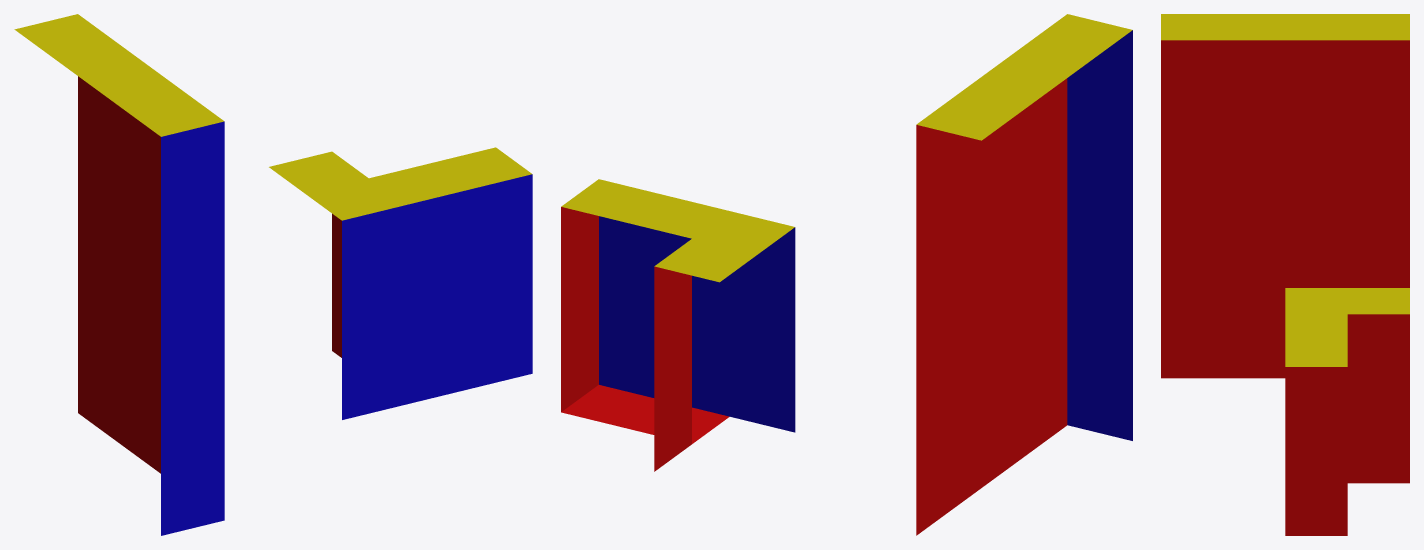
Rendered from Level (2).fbx.
The picture shows the model from 3 angles, left to right: view 1: azimuth 30°, elevation 25°; view 2: azimuth 150°, elevation 25°; view 3: azimuth 270°, elevation 25°; orthographic projection. The views are drawn at different scales.
Parts seen in each view (by area): view 1: Level; view 2: Level; view 3: Level.
Part boxes in pixels (x1,y1,x2,y2): Level: [14, 14, 532, 535]; Level: [561, 14, 1132, 535]; Level: [1161, 14, 1409, 535].
Size of the model in its own units: 700 by 600 by 400.
